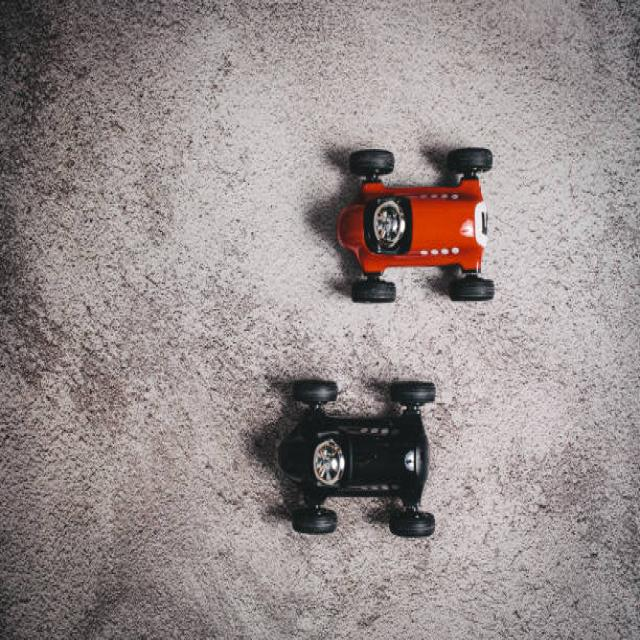Car: (275, 376, 436, 536), (336, 144, 494, 303)
